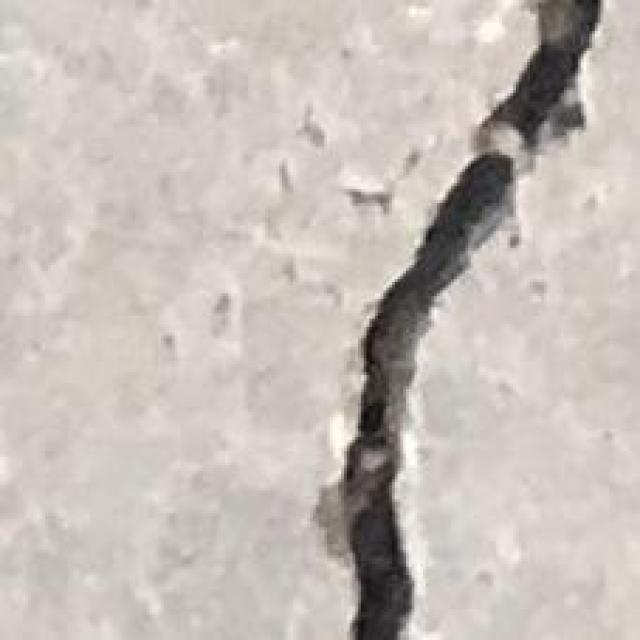Crack: (268, 34, 637, 634)
